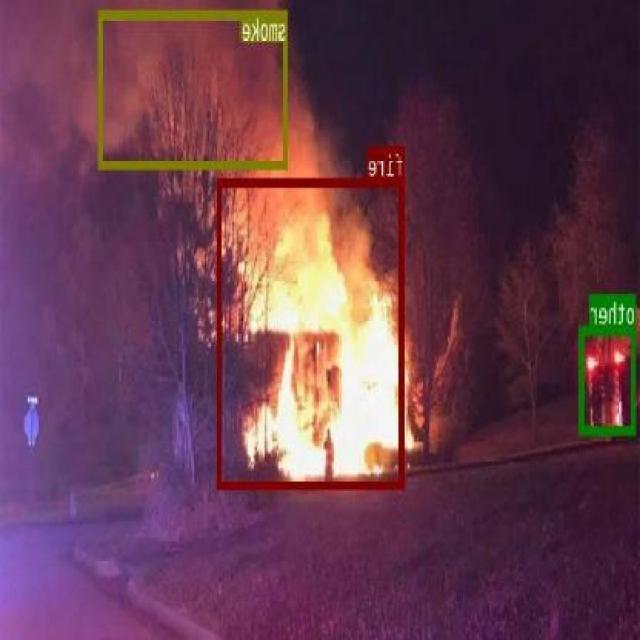Fire: (218, 176, 406, 487)
Smoke: (100, 9, 288, 168)
